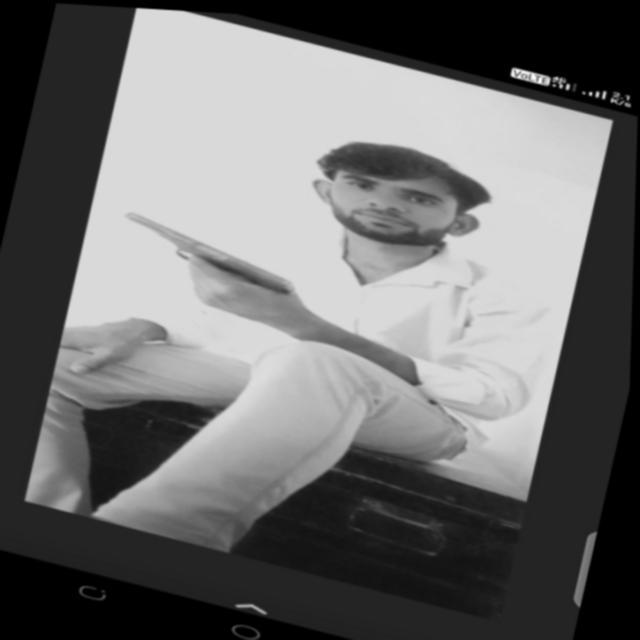weapon: (105, 205, 314, 323)
